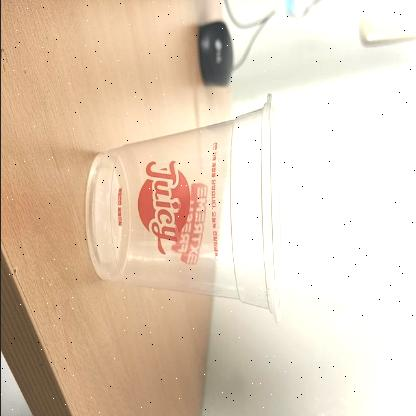Others: (82, 93, 284, 325)
